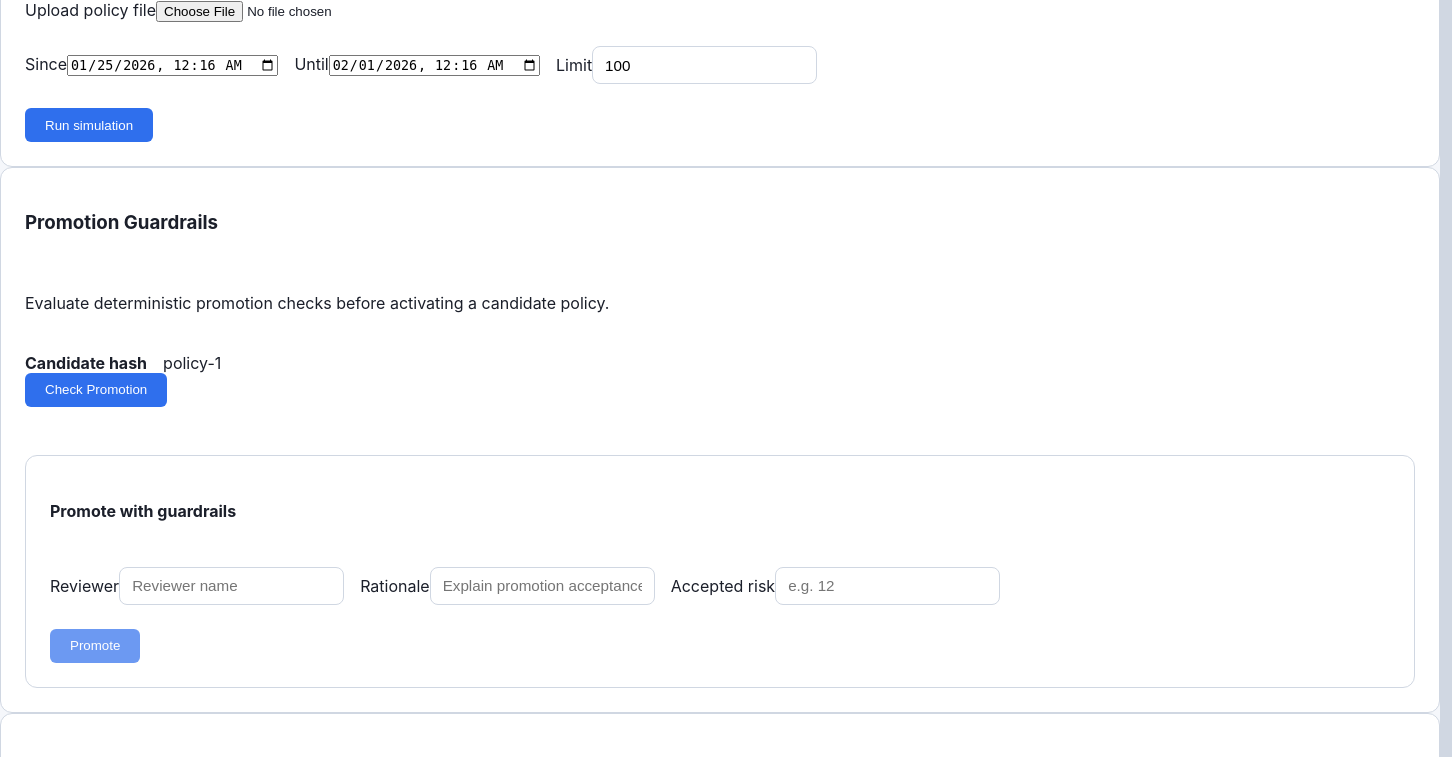
Test: promotion guardrail check renders reasons
(page scrolled)
Expected: the text "policy-1" is shown, [163,353,221,373]
Click the button "Check Promotion": click(96, 390) [25,373,167,407]
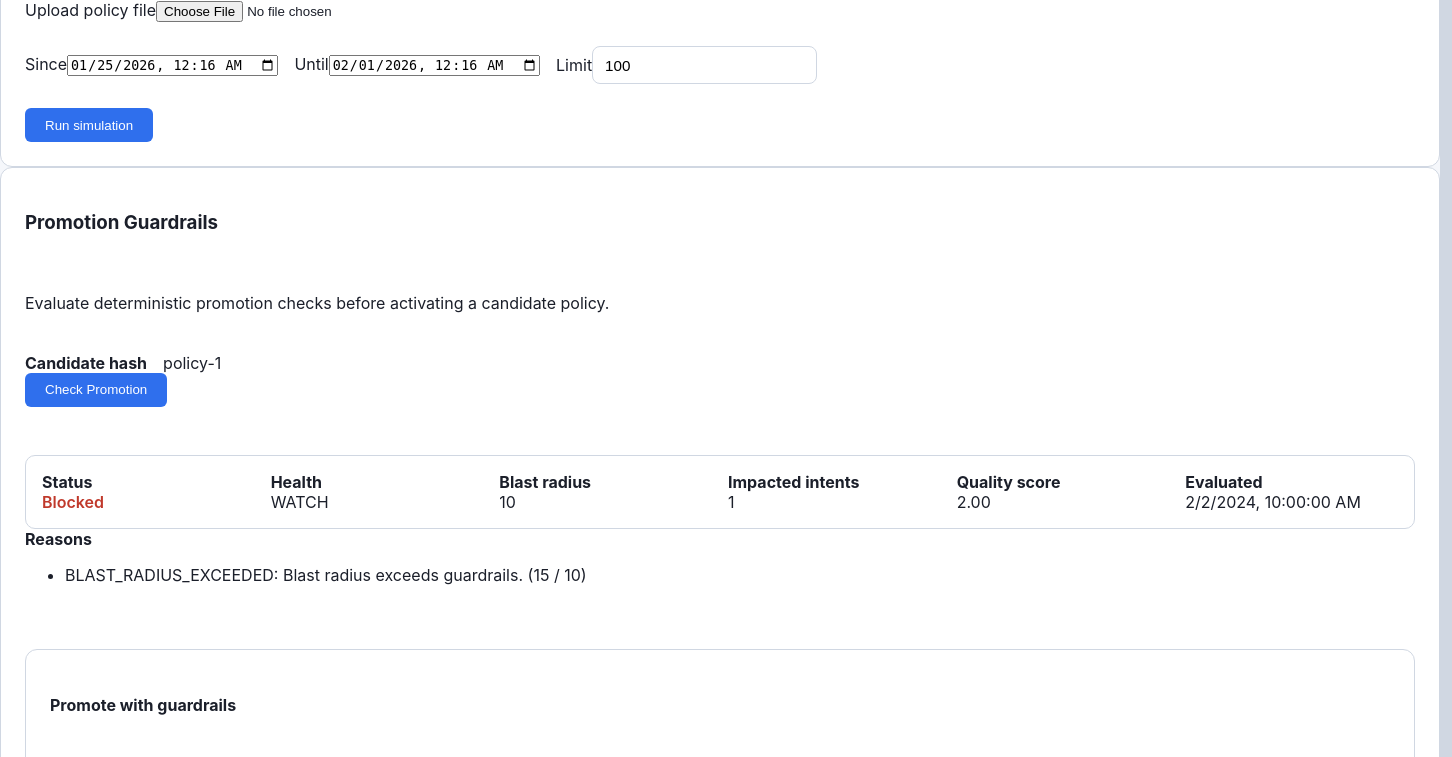
Result: the list item "BLAST_RADIUS_EXCEEDED" is shown at [65,565,274,585]
